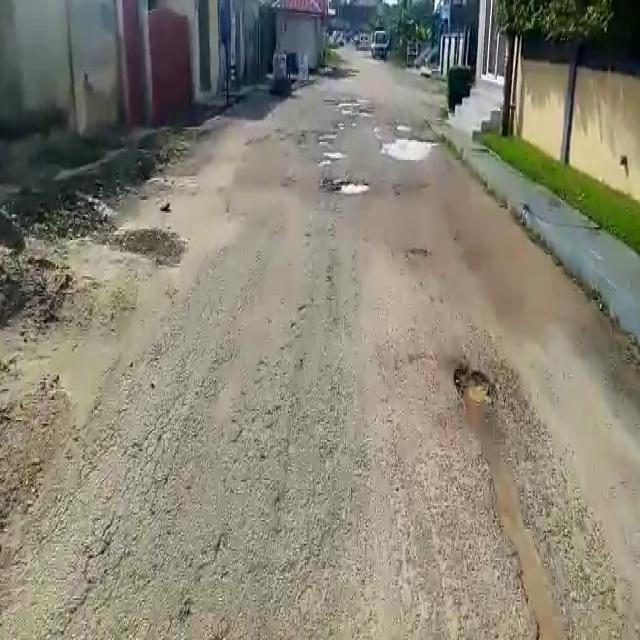pothole: (459, 365, 495, 418), (383, 132, 437, 160), (331, 179, 374, 198), (322, 151, 347, 158)
